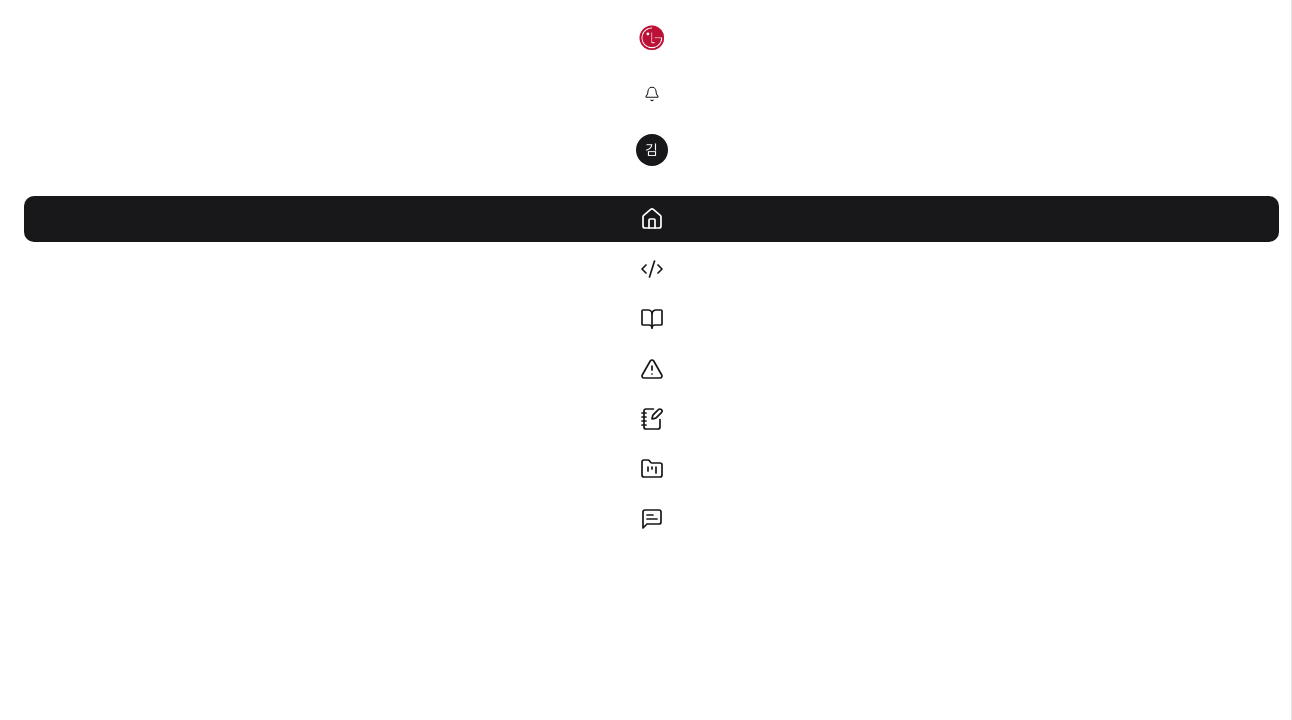
Test case: AppShellSidebar › 유저 메뉴가 닫힌 상태에서는 hover 진입 시 확장되고 외부 이탈 시 다시 접힌다
(page scrolled)
Hover over the element with class "app-sidebar".
mouse_move(652, 360)  # box top-left (12, 0), bottom-right (1291, 719)
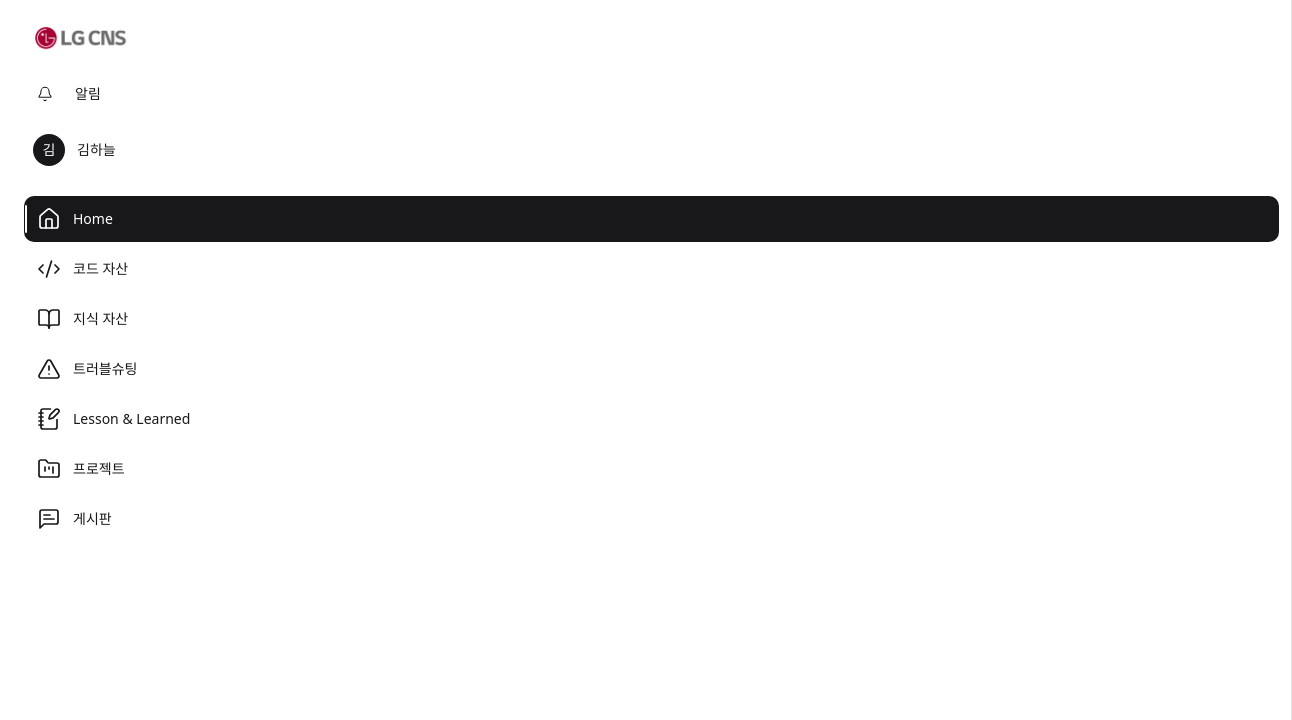
Move the pointer off the element with class "app-sidebar"
(page scrolled)
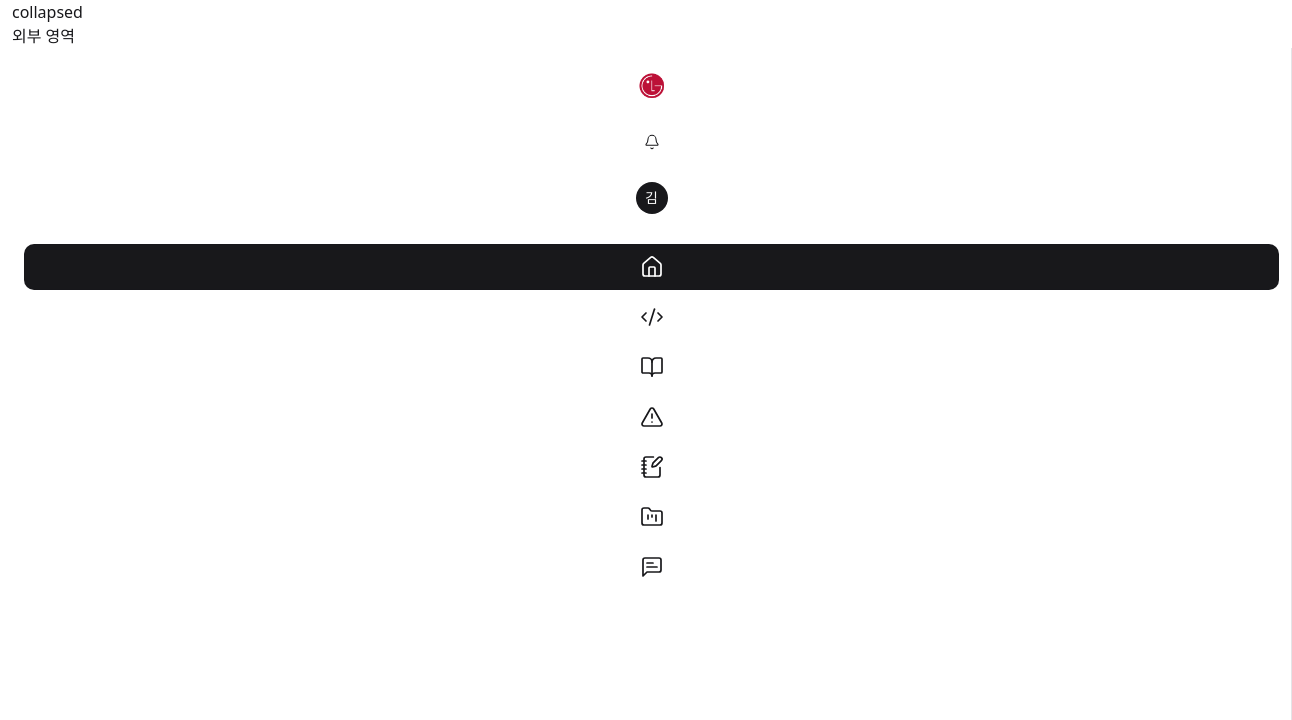
Now the text with test id "sidebar-state" reads "collapsed", box top-left (12, 1), bottom-right (83, 23)
